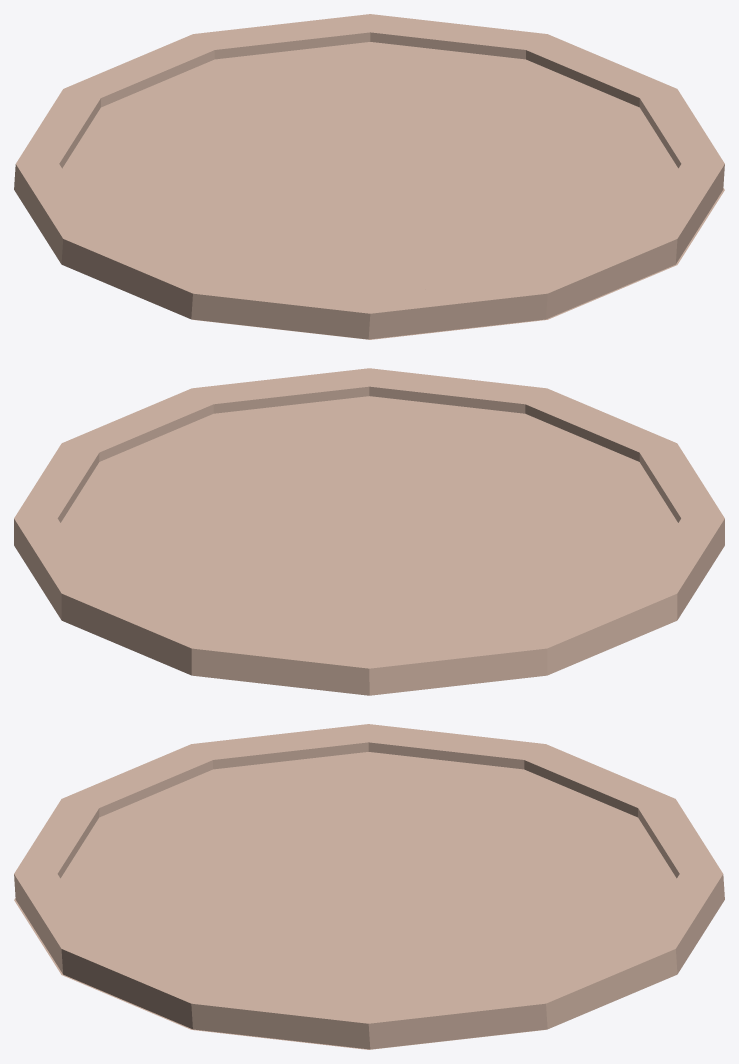
The picture shows the model from 3 angles, top to bottom: view 1: azimuth 30°, elevation 25°; view 2: azimuth 150°, elevation 25°; view 3: azimuth 270°, elevation 25°; orthographic projection.
Parts seen in each view (by area): view 1: Object57; view 2: Object57; view 3: Object57.
Boxes of the visible parts, box(x1,y1,x2,y2) form: Object57: box(14, 14, 724, 339); Object57: box(14, 368, 724, 695); Object57: box(14, 724, 724, 1049).
Size of the model in its own units: 132 by 5.36 by 132.
